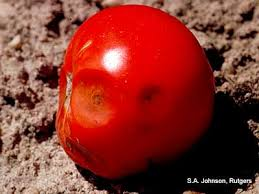anthracnose: (58, 71, 80, 116)
